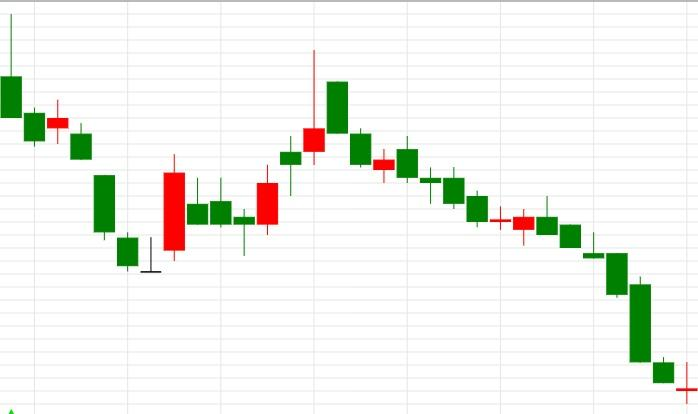morning_star_rise: (1, 15, 185, 273)
shooting_star_fall: (234, 49, 325, 256)
